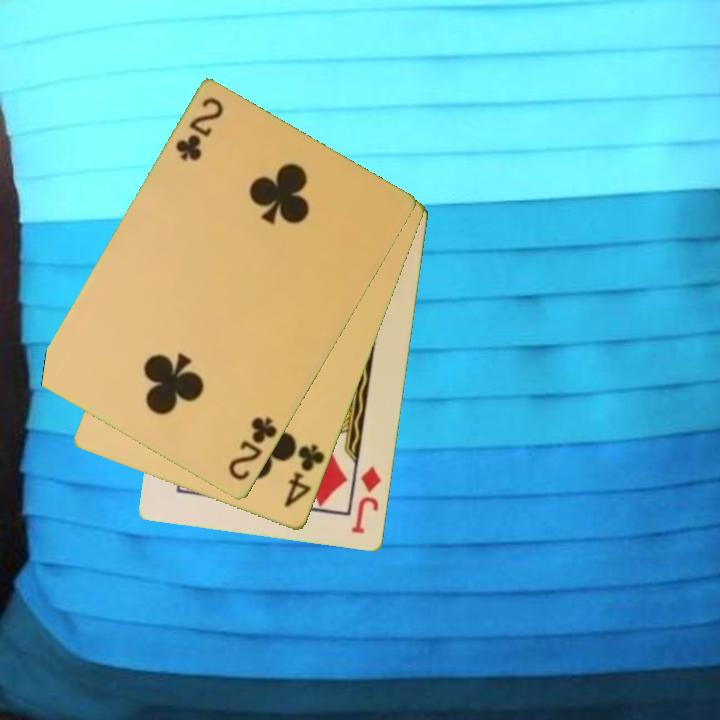2c: (225, 414, 281, 484), (172, 94, 227, 165)
4c: (281, 441, 328, 511)
Jd: (348, 463, 385, 537)
